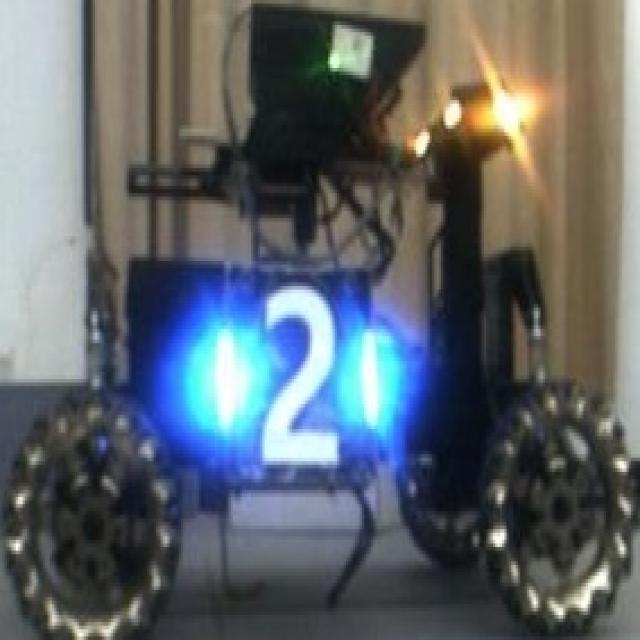B2: (210, 279, 380, 468)
